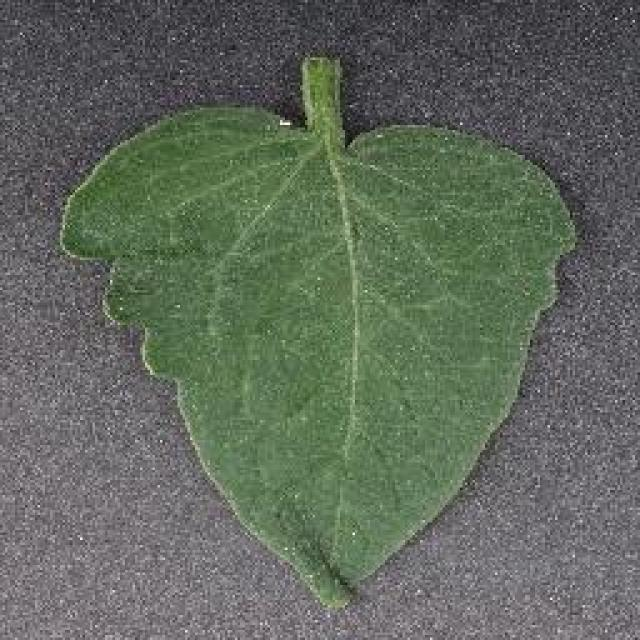Tomato___healthy: (58, 53, 579, 614)
